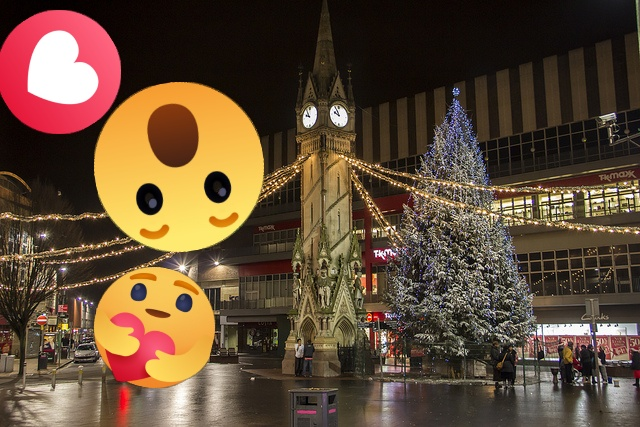care: (94, 267, 215, 388)
love: (0, 10, 121, 134)
wow: (94, 82, 264, 252)
